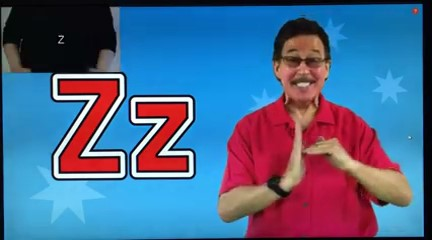Z: (267, 114, 359, 200)
